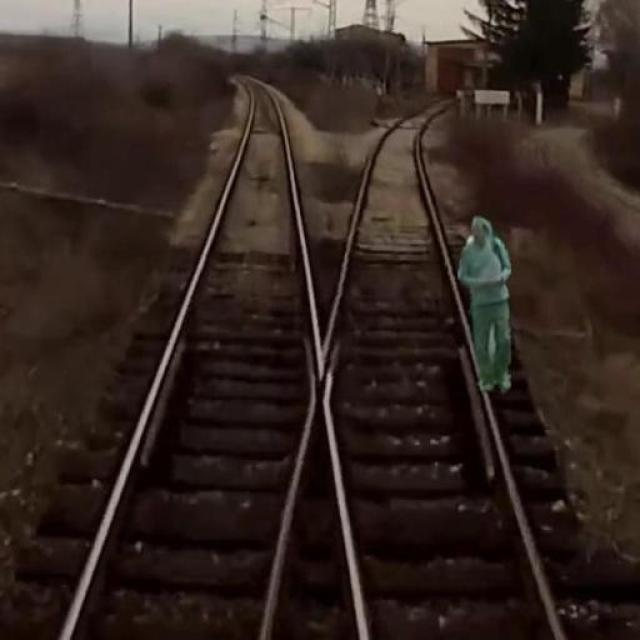people: (454, 215, 529, 394)
